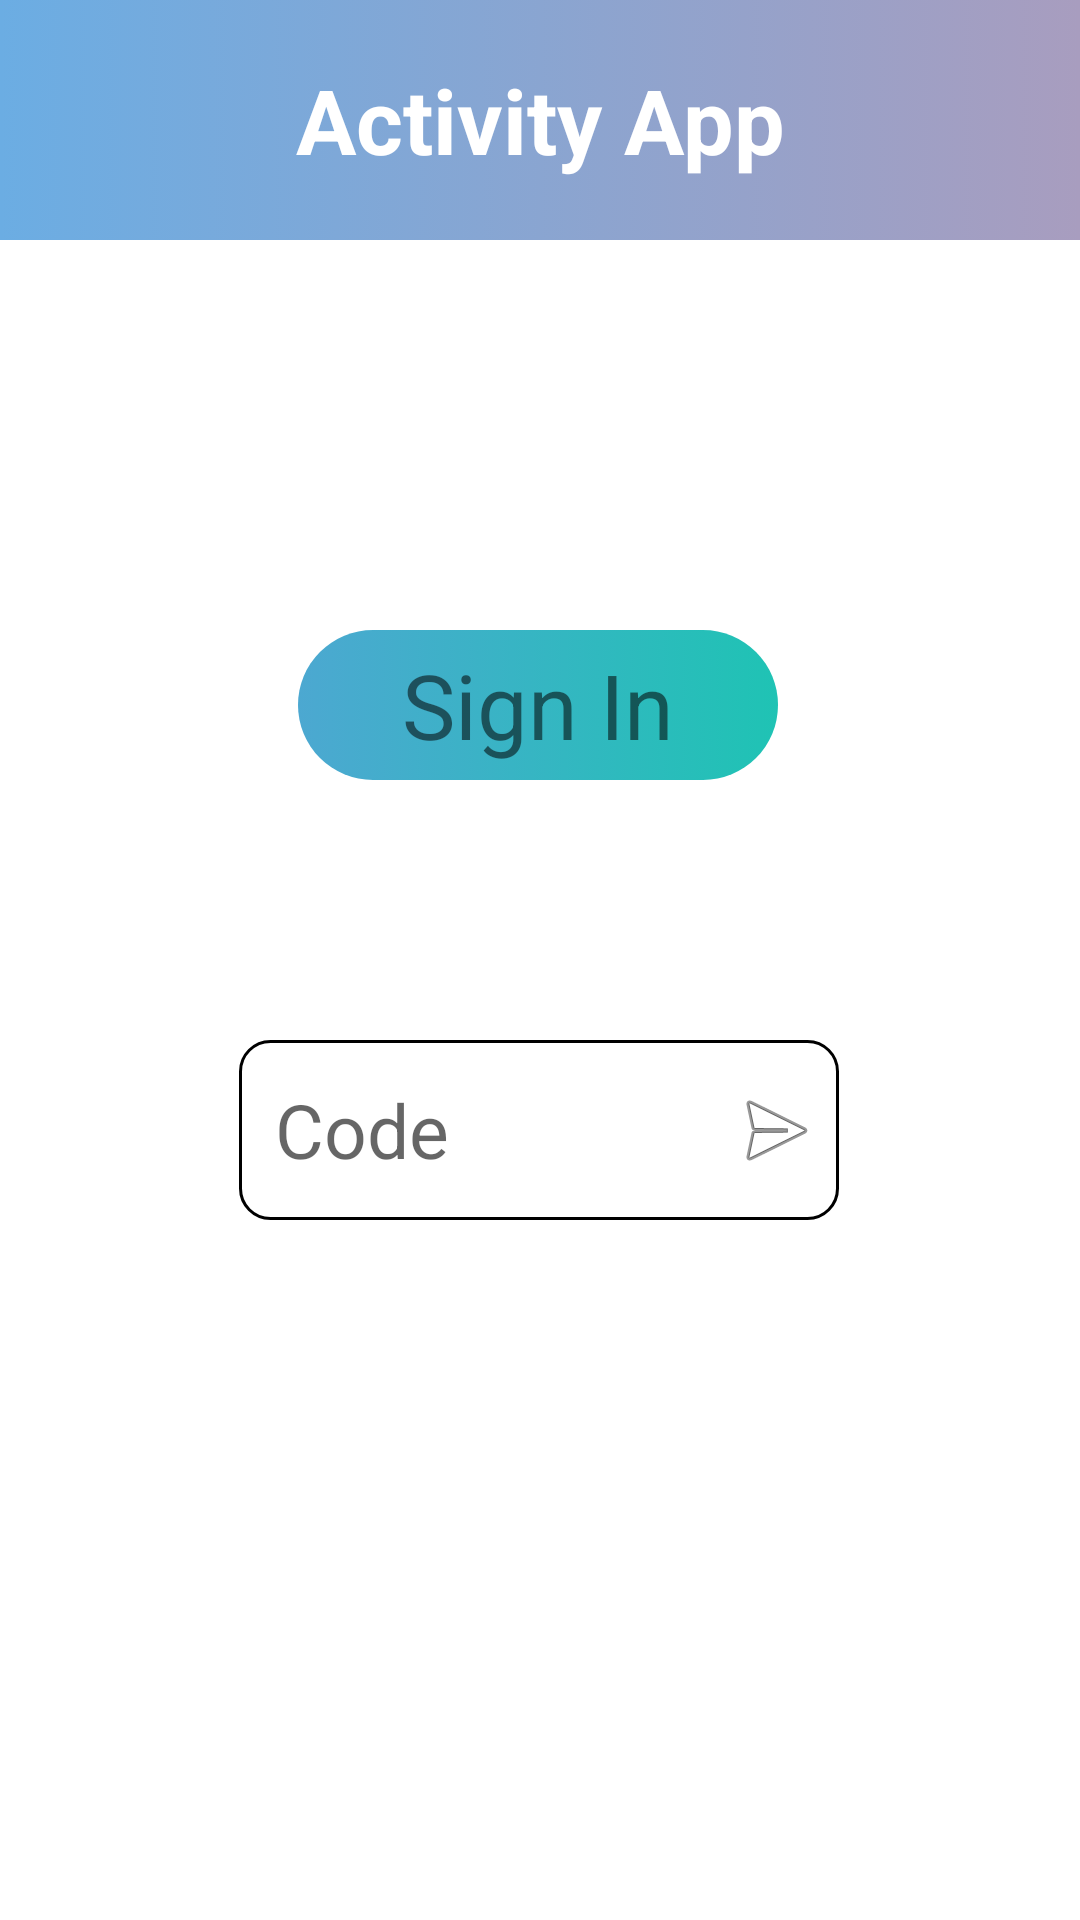

Where icons sit on this 1080w x 1920h app screen, as (x1, y1, x2, y2):
send: (746, 1100, 808, 1161)
